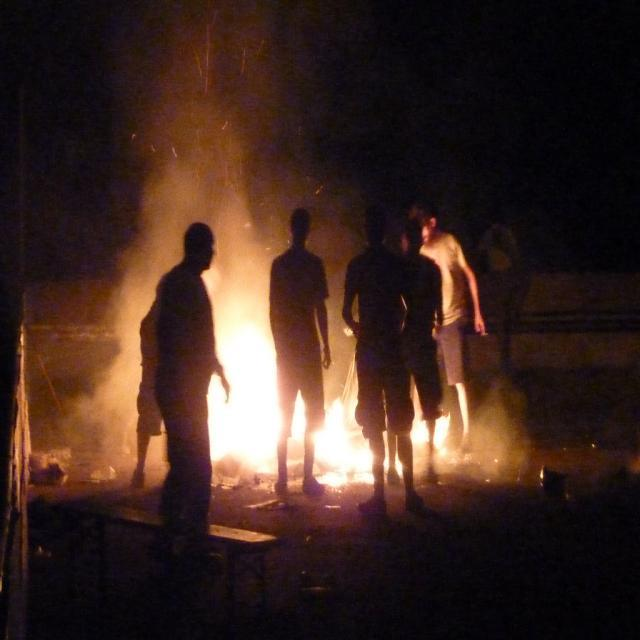Fire: (224, 323, 282, 462), (328, 413, 370, 487)
